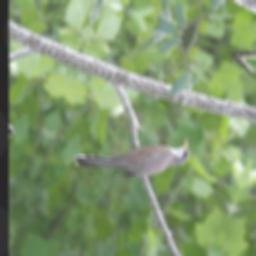Cuckoo: (70, 100, 196, 207)
